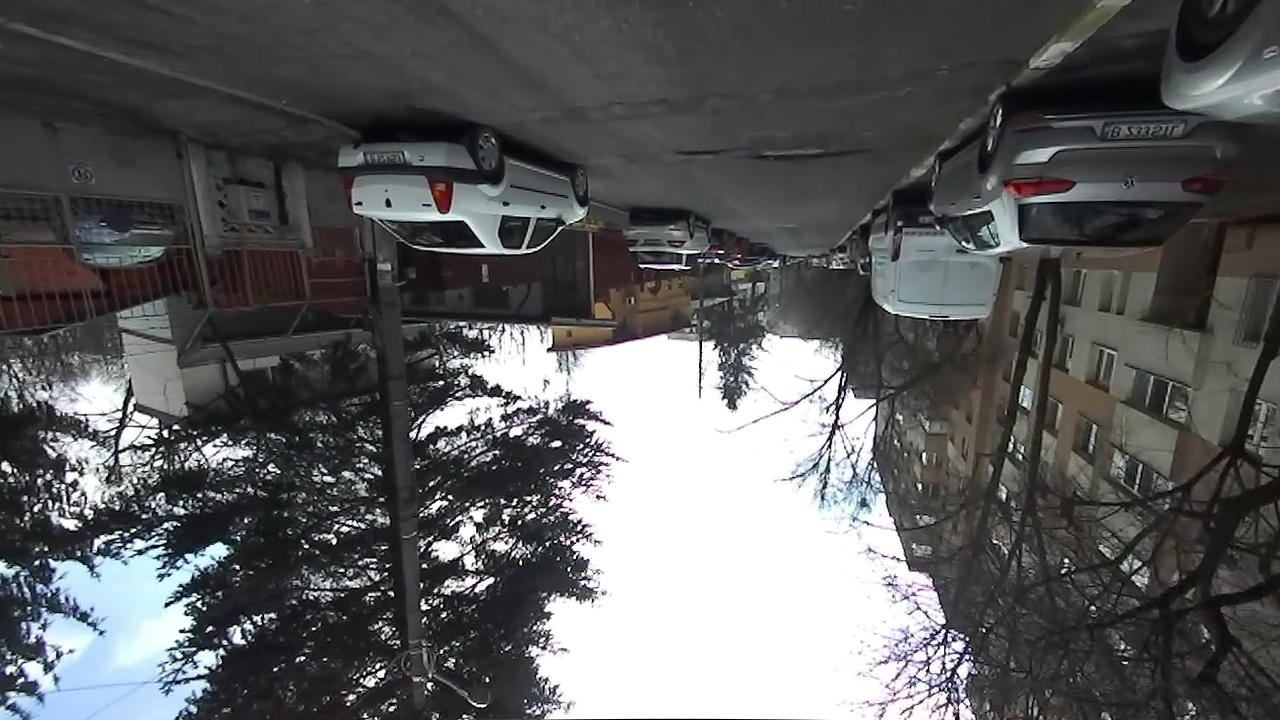pothole: (749, 142, 874, 163), (673, 146, 734, 159)
